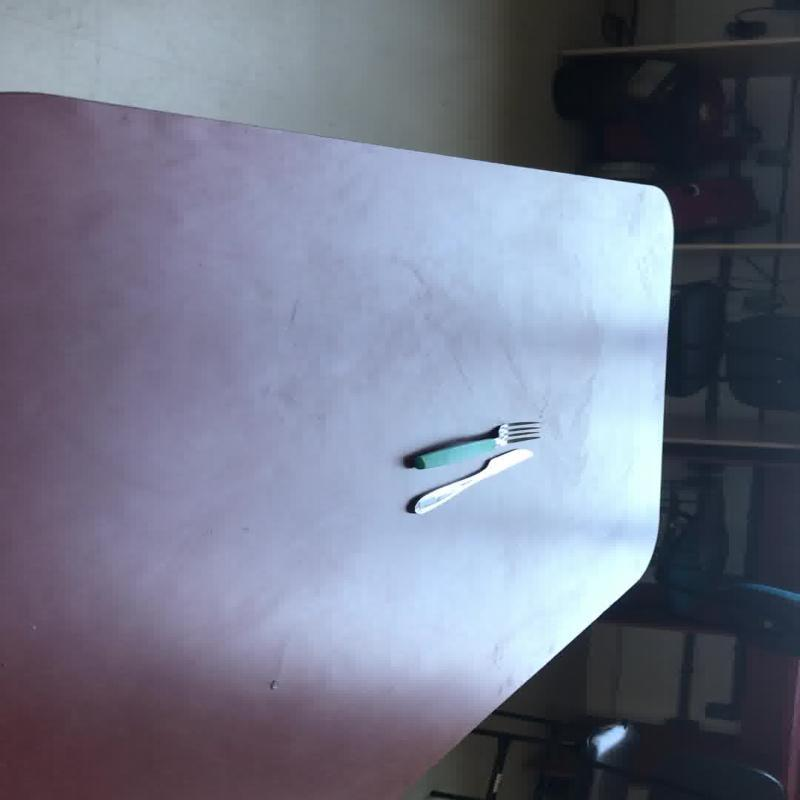fork: (406, 420, 541, 469)
knife: (406, 447, 534, 514)
